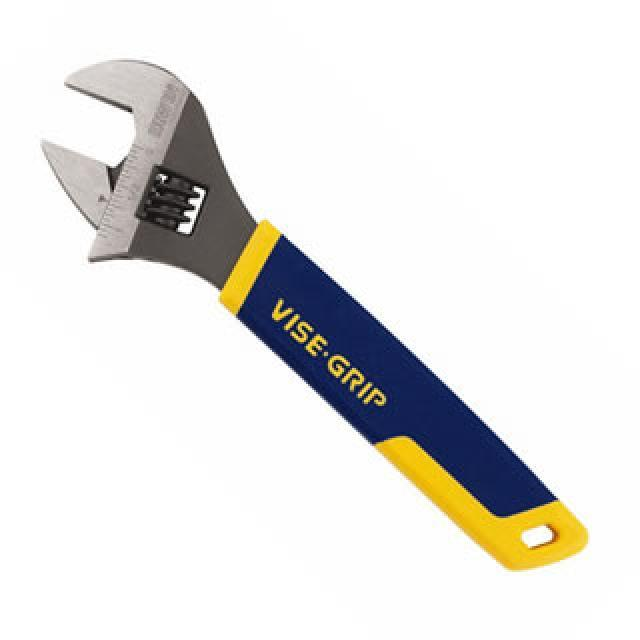wrench: (30, 49, 598, 578)
